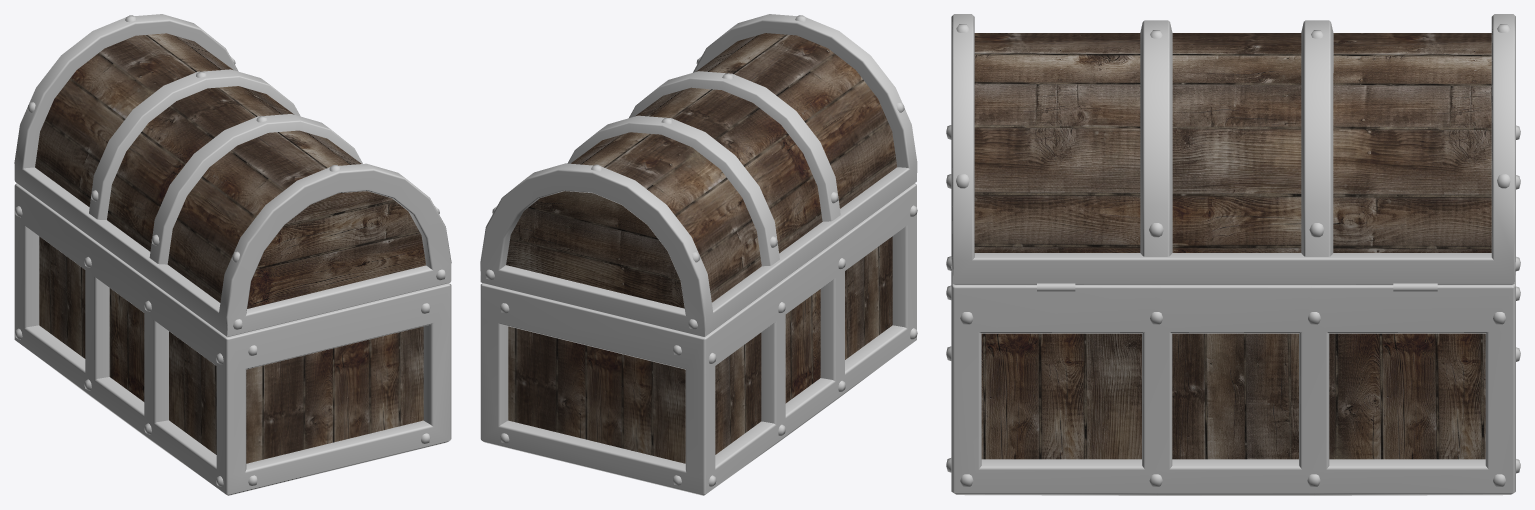
The model's file is SM_Treasure_Chest_01a.fbx.
3 views of the same model, side by side, from view 1: azimuth 30°, elevation 25°; view 2: azimuth 150°, elevation 25°; view 3: azimuth 270°, elevation 25° (orthographic). The views are drawn at different scales.
Parts seen in each view (by area): view 1: SM_Treasure_Chest_01a; view 2: SM_Treasure_Chest_01a; view 3: SM_Treasure_Chest_01a.
Part boxes in pixels (x1,y1,x2,y2): SM_Treasure_Chest_01a: (14, 14, 451, 495); SM_Treasure_Chest_01a: (480, 14, 917, 495); SM_Treasure_Chest_01a: (946, 14, 1520, 495).
Size of the model in its own units: 68.54 by 110 by 84.31.
